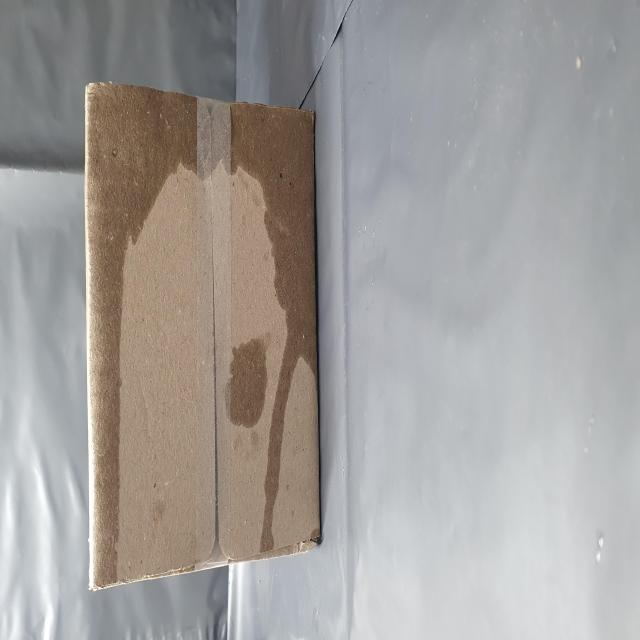wet: (40, 161, 308, 564)
